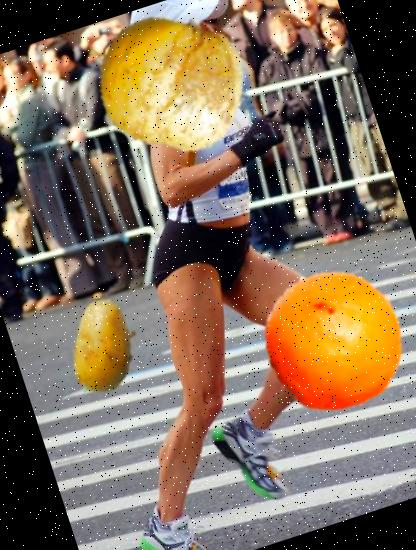Apple: (77, 0, 262, 175)
Kumquats: (315, 296, 401, 382)
Lemon: (243, 250, 416, 429)
Potato: (42, 286, 164, 409)
